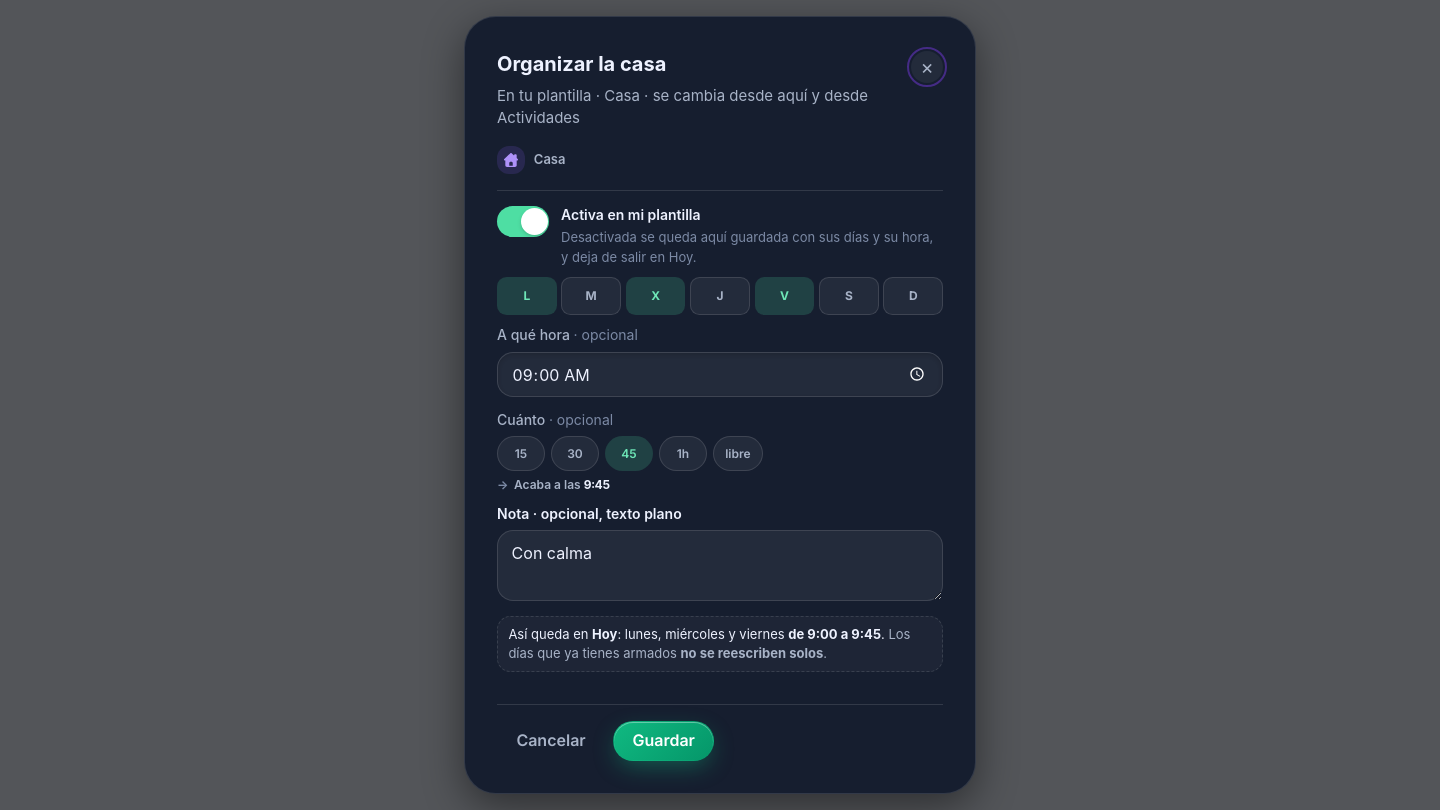
Scenario: VidaActivitySheet desde la plantilla (lockActivity) › la vista previa se recalcula con lo elegido y **no enseña un rango falso** (criterio 20)
Check: the text "de 9:00 a 9:45" is shown, box 788,626 -> 881,642
Check: the text "no se reescriben solos" is shown, box 680,645 -> 823,661
Note: Quitarle la duración: deja de haber rango y se dice qué falta.
Click the button "45". click: (629, 453)
box: 605,436 -> 653,470
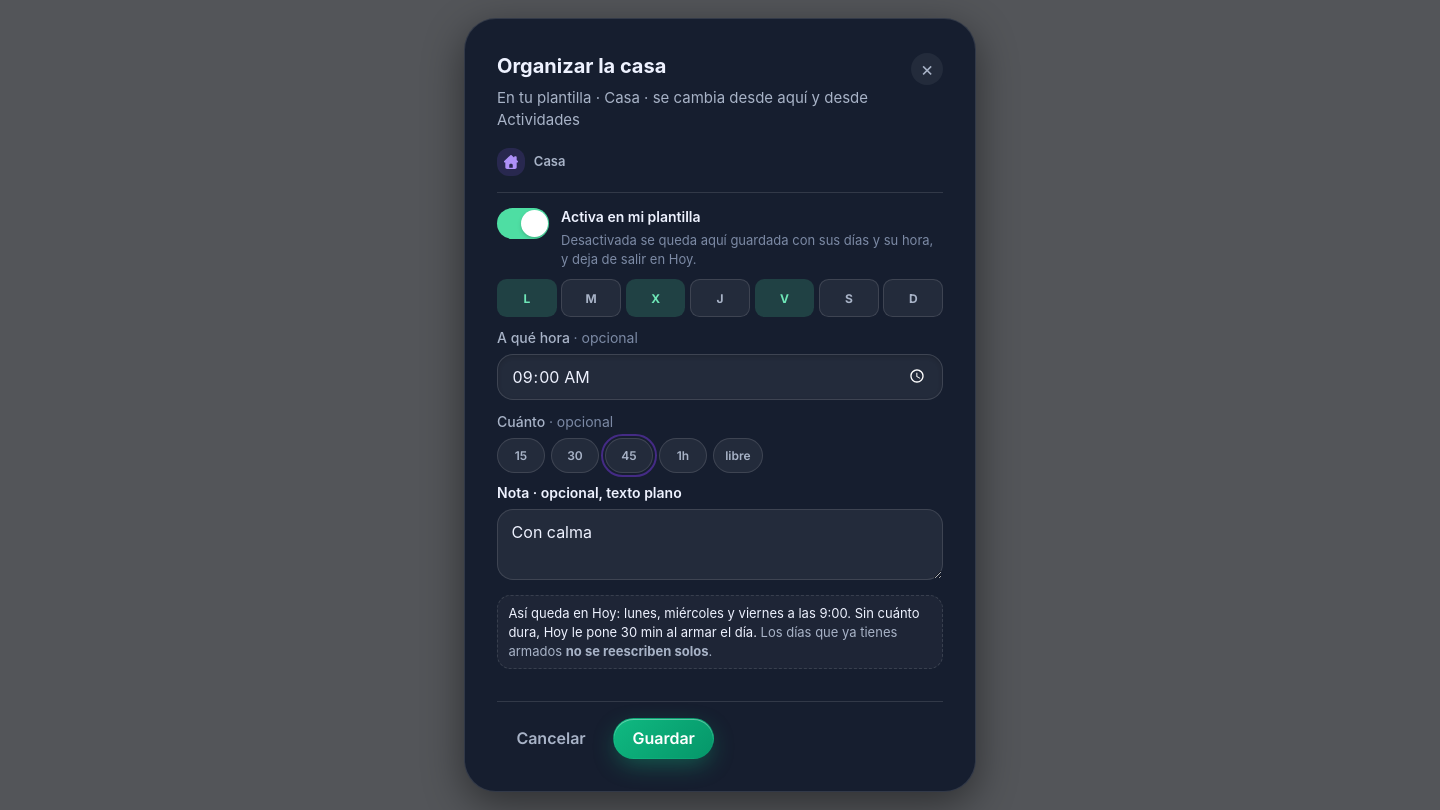
Check: the text "de 9:00 a 9:45" is gone
Check: the text "Sin cuánto dura" is shown, box 508,605 -> 920,640
Note: Y cambiar la hora la mueve: se calcula de lo elegido, no de lo guardado.
Click the button "30". click: (575, 455)
box: 551,438 -> 599,473
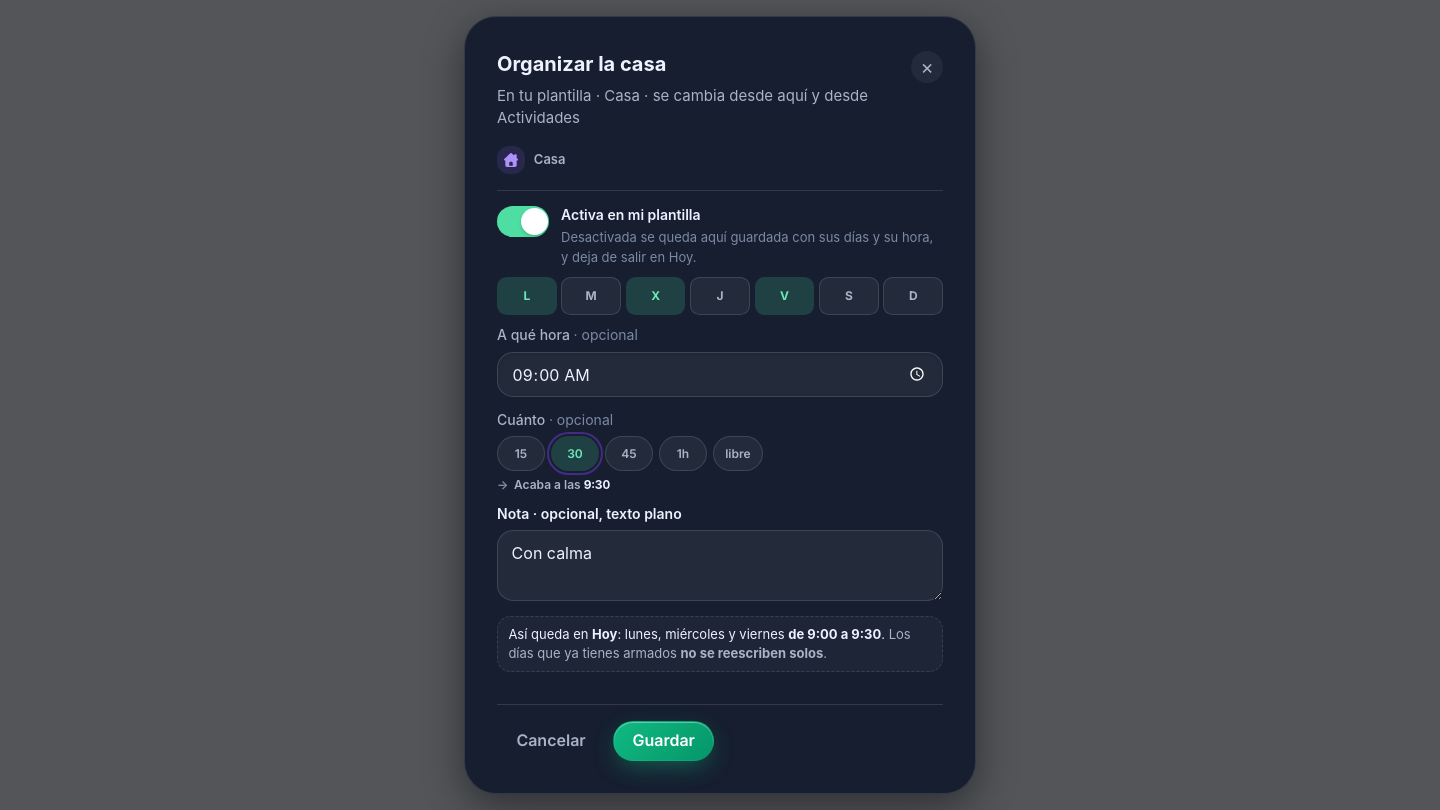
Replace the text in the time field labelled "A qué hora · opcional" with "07:15". click: (720, 375)
box: 497,352 -> 943,397
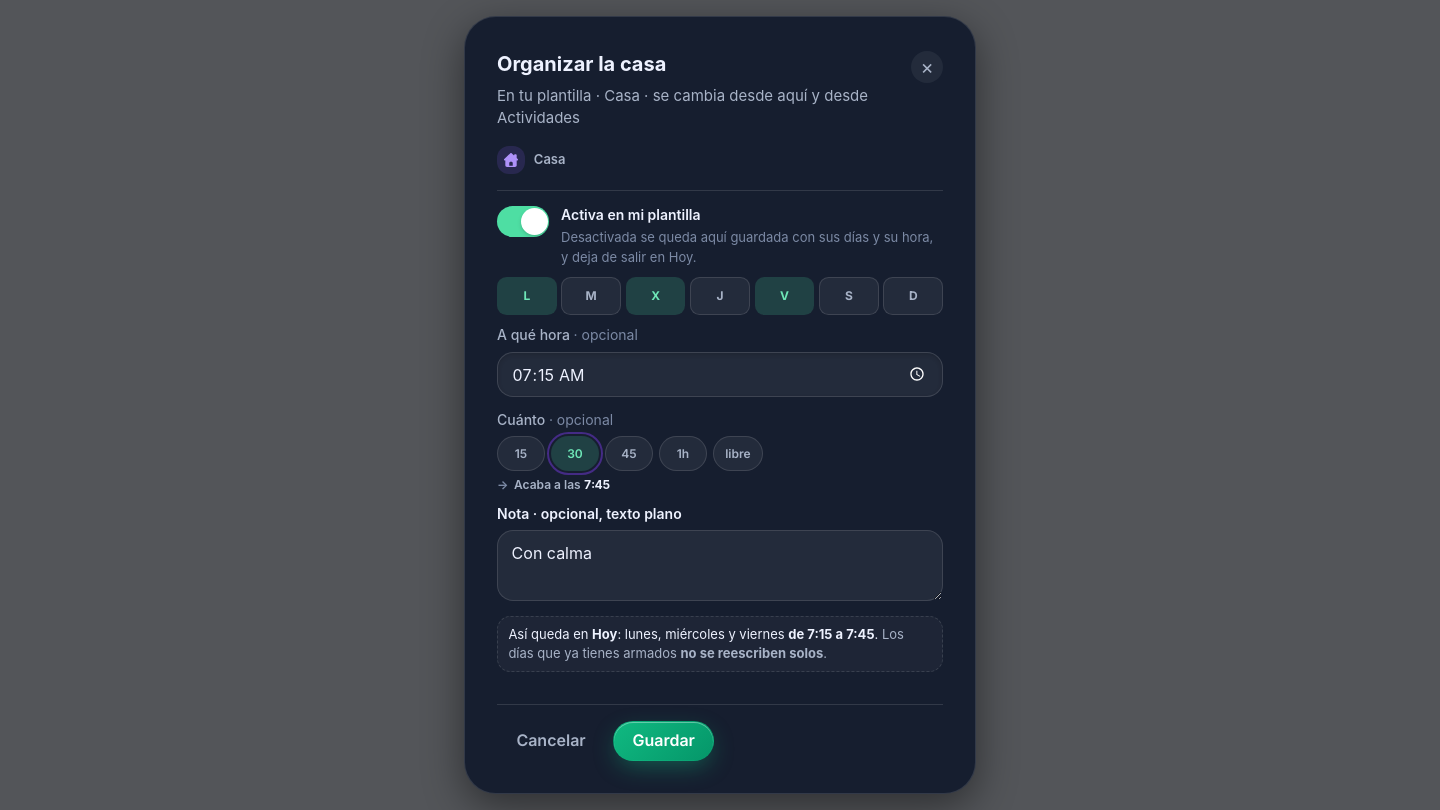
Check: the text "de 7:15 a 7:45" is shown, box 788,626 -> 874,642
